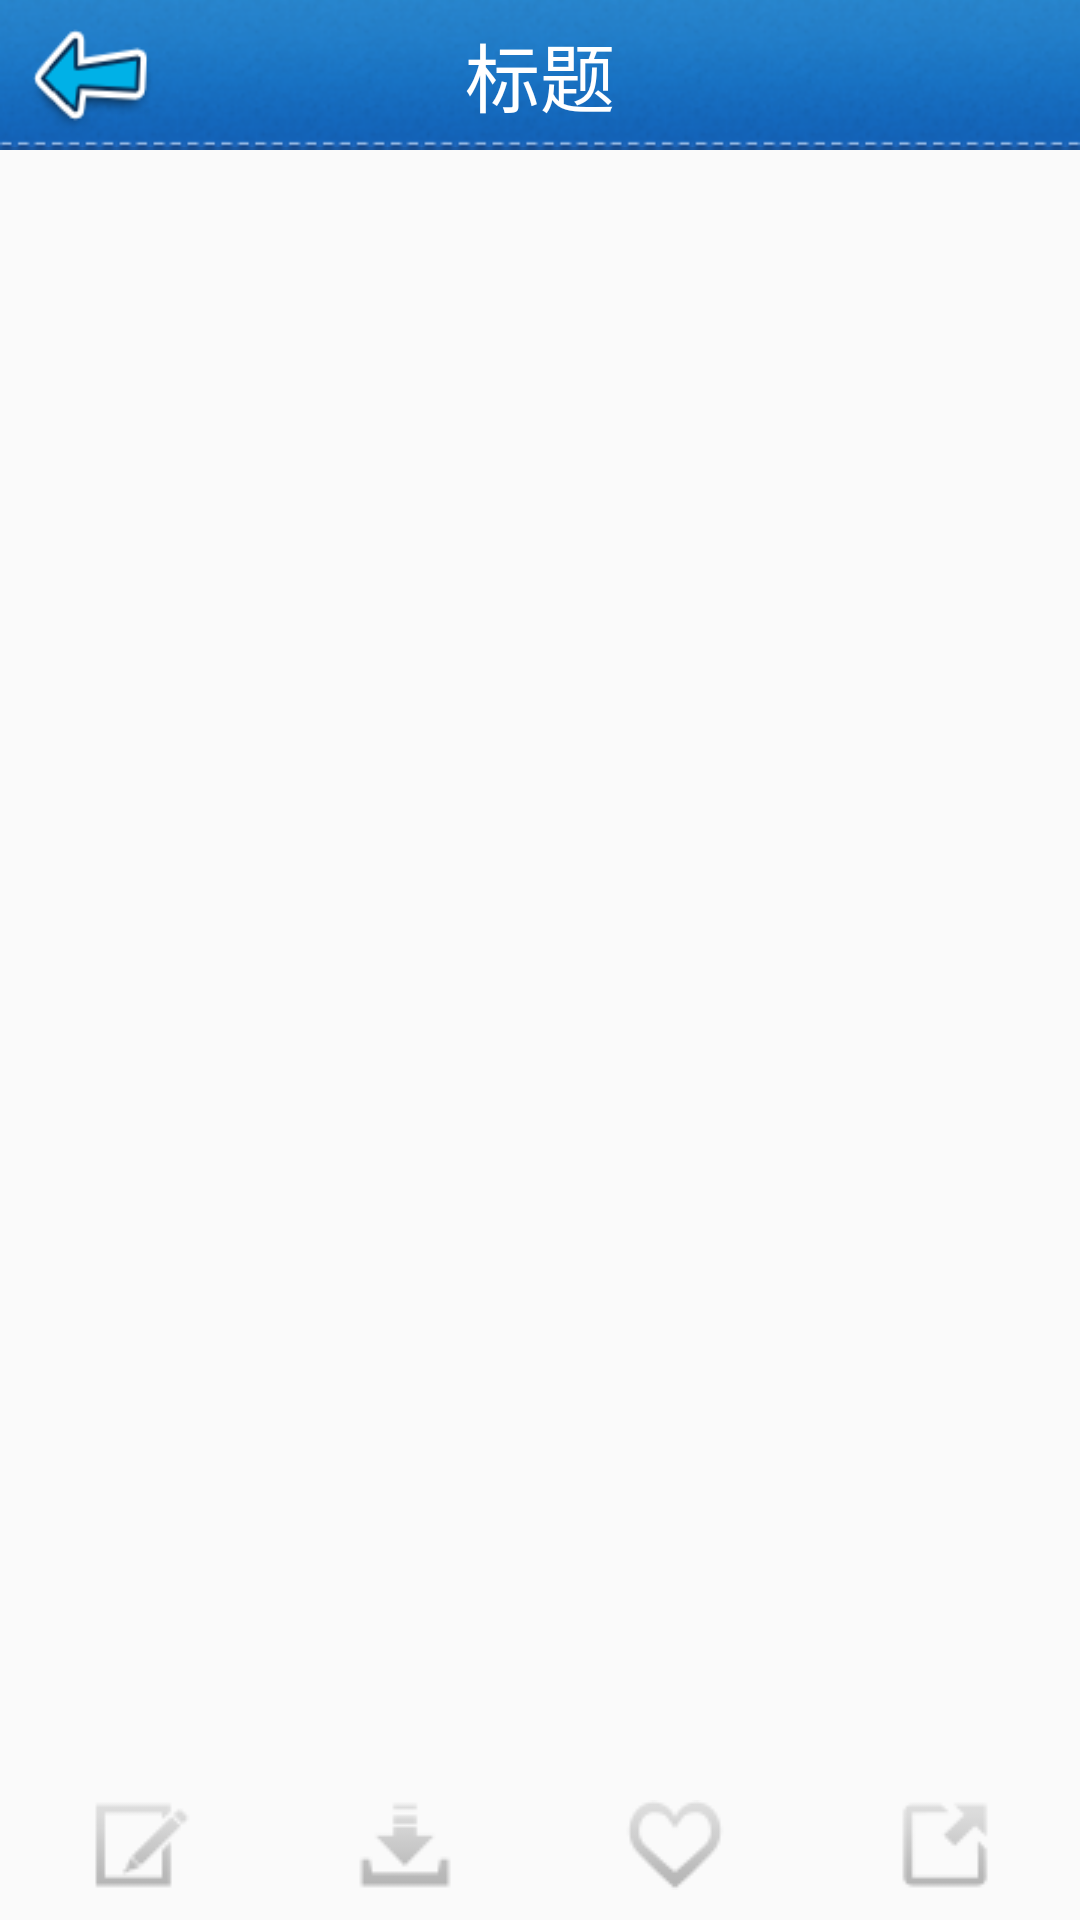

Icons on this 1080 × 1920 Android screen, each with its box as (x1, y1, x2, y2):
checkbox favor: (630, 1804, 720, 1887)
comment: (96, 1807, 186, 1887)
download: (361, 1807, 449, 1887)
share: (903, 1807, 987, 1887)
